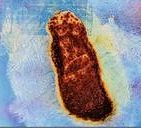Corrosion: (46, 9, 114, 122)
